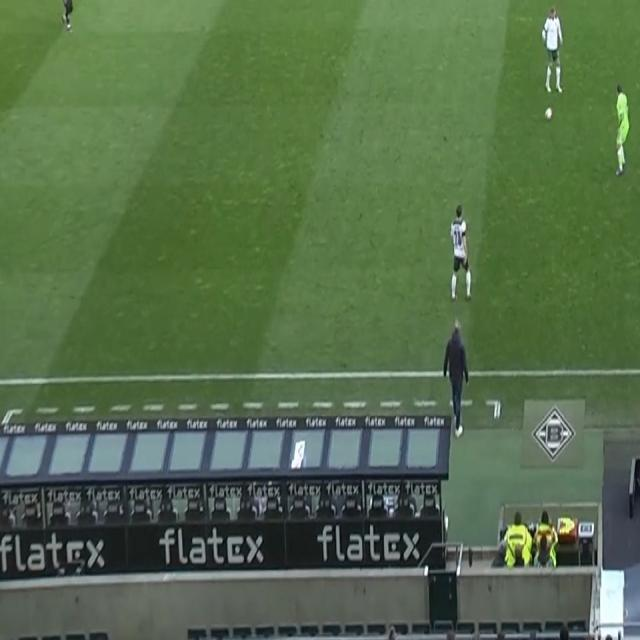ball: (544, 106, 552, 121)
